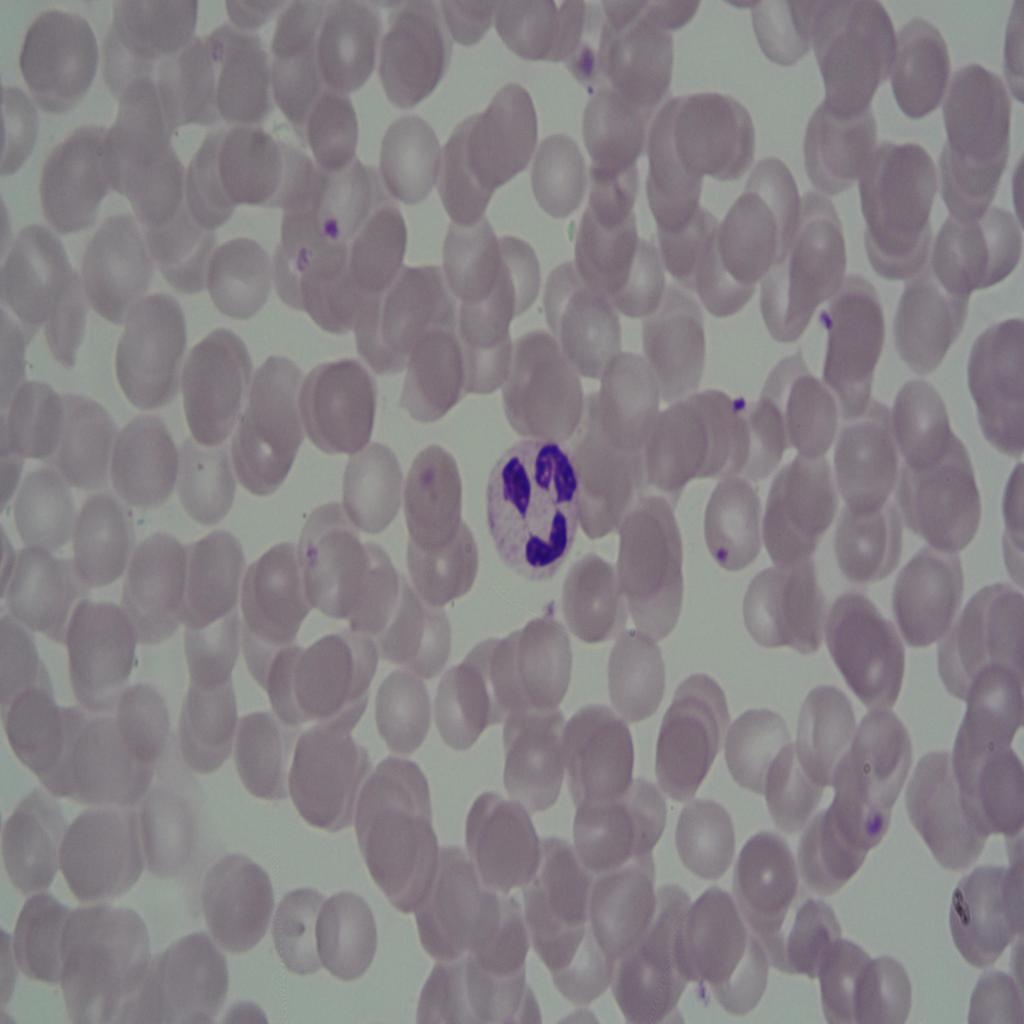Neutrofil: (478, 434, 590, 592)
Platelet: (307, 194, 352, 251), (570, 42, 608, 90), (858, 804, 889, 854), (720, 384, 748, 432), (811, 297, 837, 347), (709, 538, 735, 572)
